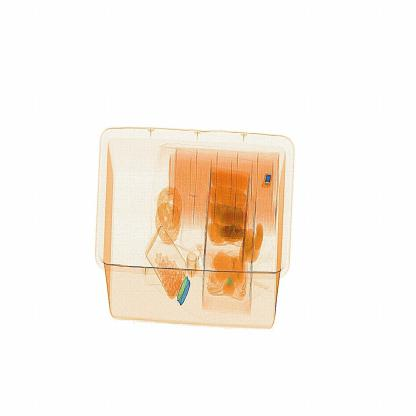wrench: (260, 174, 277, 192)
